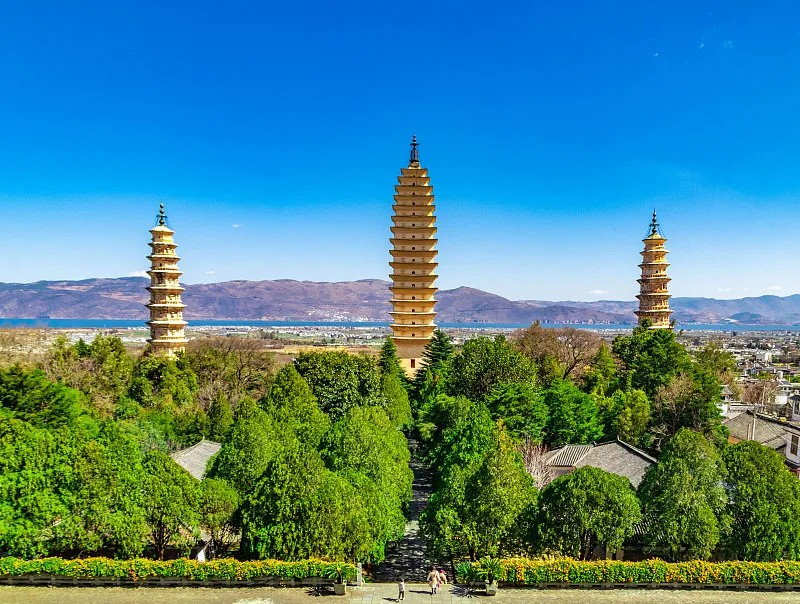ThreePagoda: (389, 134, 438, 377)
